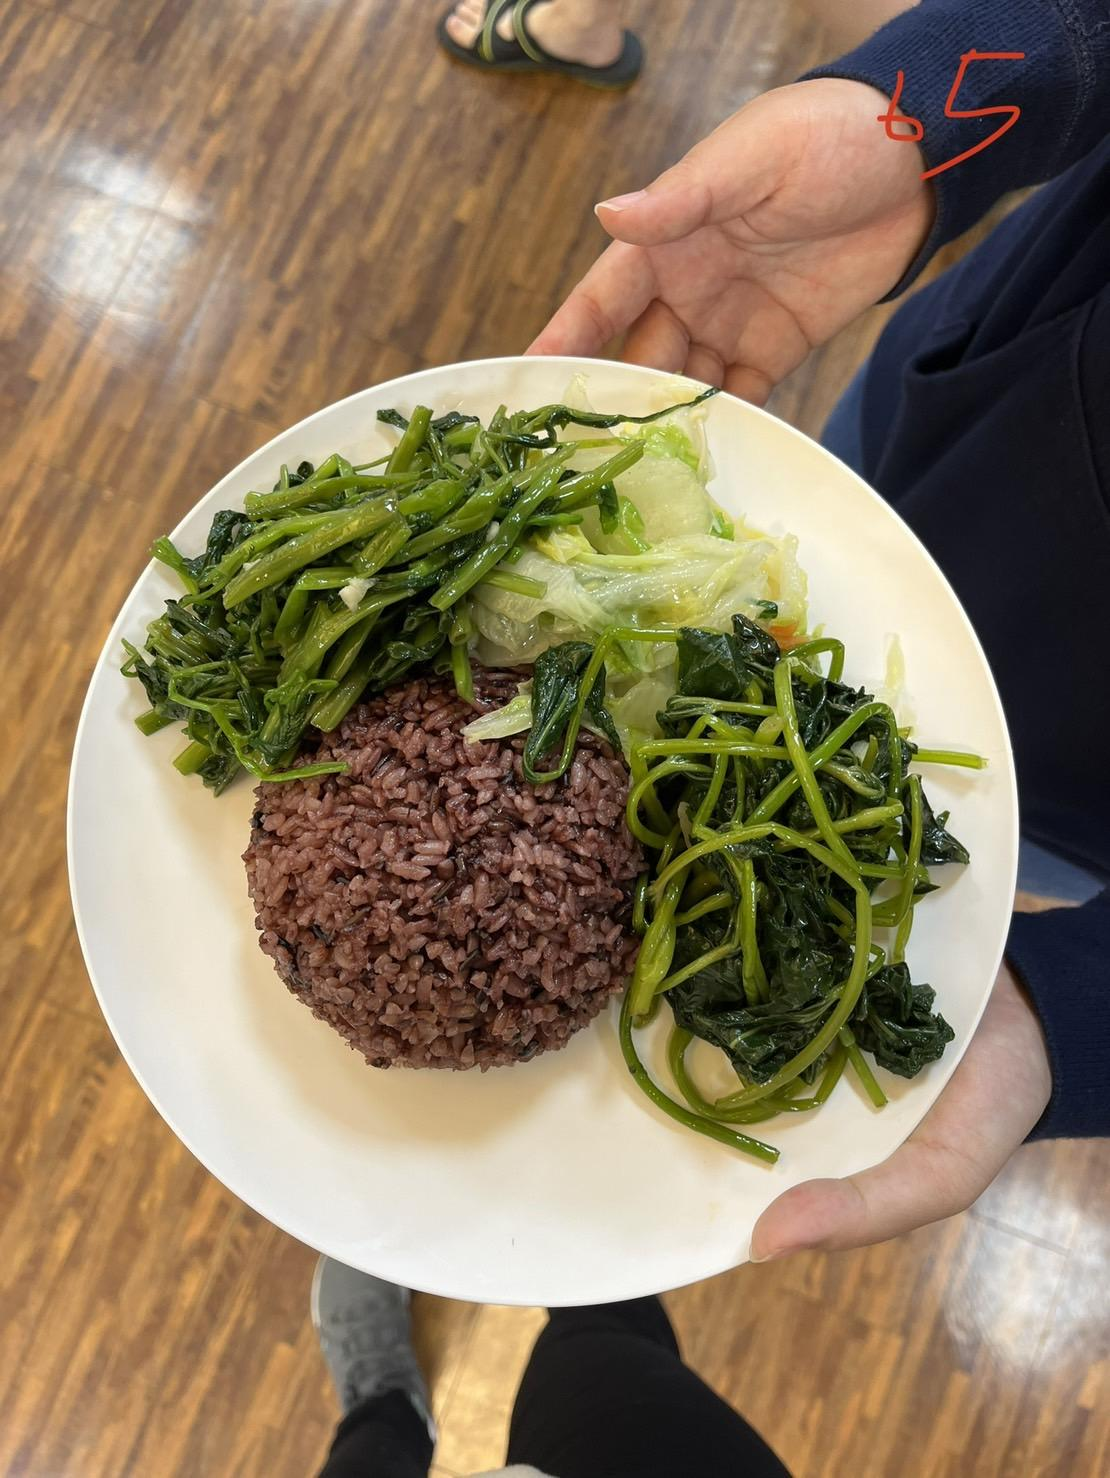big fried chicken leg: (37, 344, 1035, 1305)
braised fish: (238, 677, 638, 1074)
braised fish fillet: (111, 381, 597, 770), (617, 631, 975, 1140), (478, 424, 805, 680)
